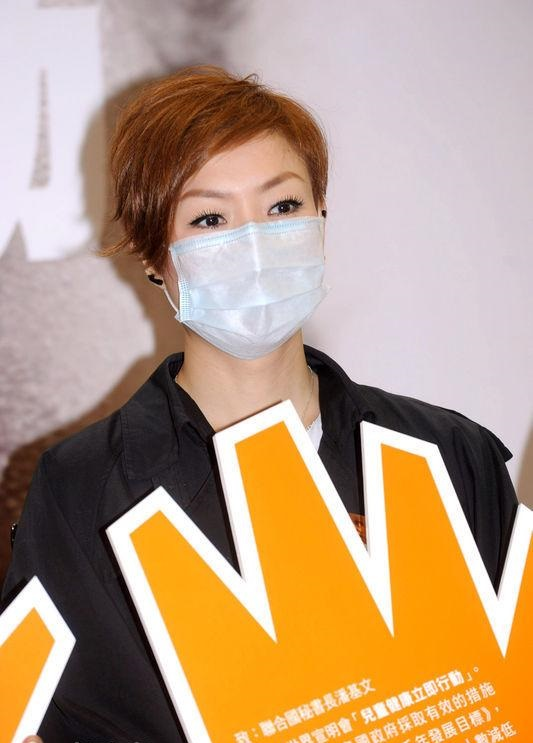face_mask: (165, 136, 325, 357)
